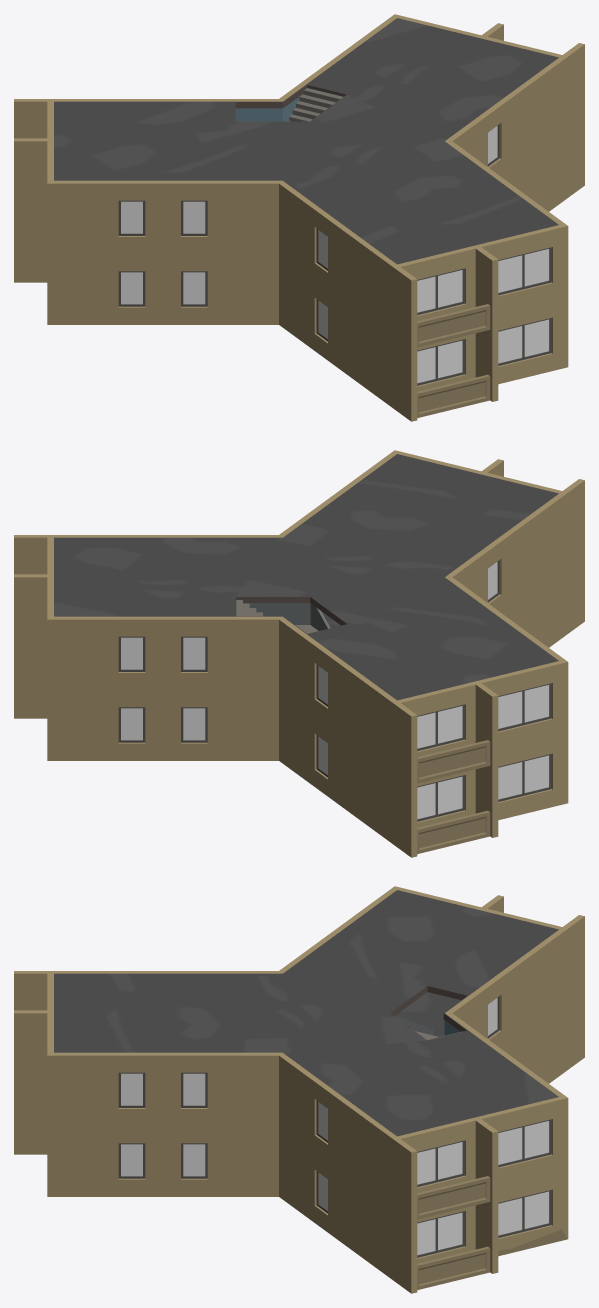
Rendered from SM_Bldg_City_Commercial_02_Mid.fbx.
3 renders of one model, top to bottom at view 1: azimuth 30°, elevation 25°; view 2: azimuth 150°, elevation 25°; view 3: azimuth 270°, elevation 25°, orthographic.
Visible parts, largest first — view 1: SM_Bldg_City_Commercial_02_Mid, SM_Bldg_City_Commercial_02_Mid_Glass; view 2: SM_Bldg_City_Commercial_02_Mid, SM_Bldg_City_Commercial_02_Mid_Glass; view 3: SM_Bldg_City_Commercial_02_Mid, SM_Bldg_City_Commercial_02_Mid_Glass.
Boxes of the visible parts, x1,y1,x2,y2 form: SM_Bldg_City_Commercial_02_Mid: (14,14,584,421); SM_Bldg_City_Commercial_02_Mid_Glass: (121,126,549,383); SM_Bldg_City_Commercial_02_Mid: (14,450,584,857); SM_Bldg_City_Commercial_02_Mid_Glass: (121,562,549,819); SM_Bldg_City_Commercial_02_Mid: (14,886,584,1293); SM_Bldg_City_Commercial_02_Mid_Glass: (121,998,549,1255).
Size of the model in its own units: 2832 by 711 by 2565.
